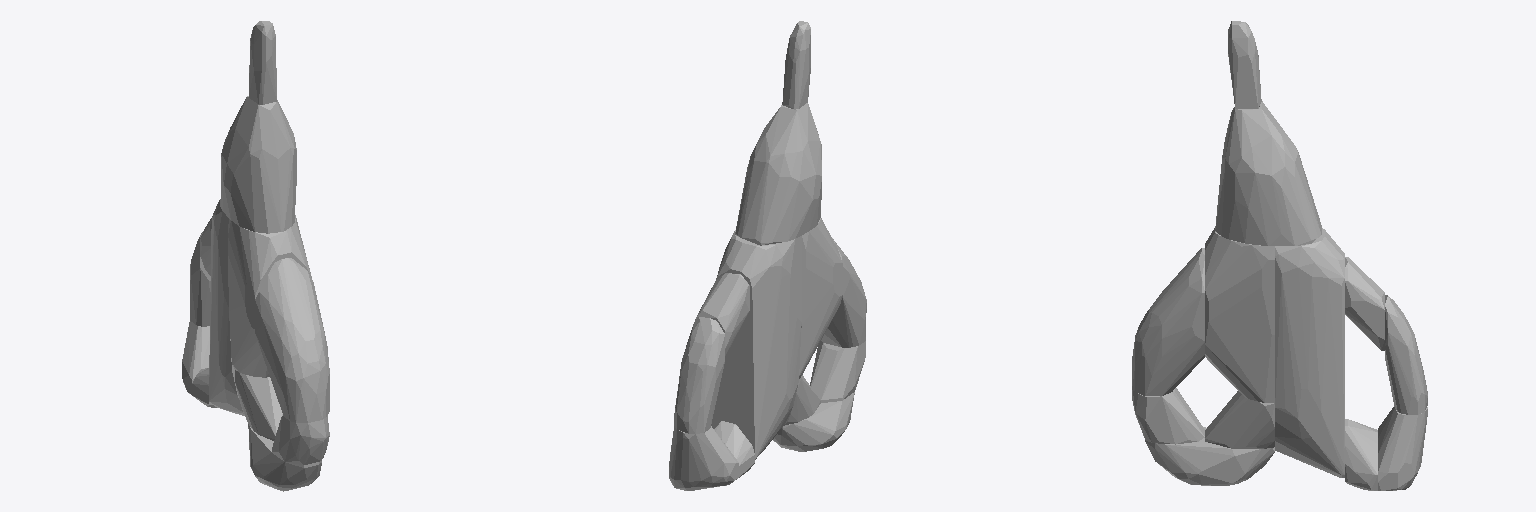
robot.urdf — root:
<robot name="root">
  <link name="link_ycb~037_scissors_convex_piece_0">
    <inertial>
      <origin xyz="0 0 0" rpy="0 0 0"/>
      <mass value="8.70E-03"/>
      <inertia ixx="1.57E-05" ixy="-1.89E-06" ixz="5.38E-07" iyy="2.00E-06" iyz="3.85E-06" izz="1.43E-05"/>
    </inertial>
    <visual>
      <origin xyz="0 0 0" rpy="0 0 0"/>
      <geometry>
        <mesh filename="ycb~037_scissors_convex_piece_0.obj" scale="1.0000E+00 1.0000E+00 1.0000E+00"/>
      </geometry>
      <material name="">
        <color rgba="7.50E-01 7.50E-01 7.50E-01 1"/>
      </material>
    </visual>
    <collision>
      <origin xyz="0 0 0" rpy="0 0 0"/>
      <geometry>
        <mesh filename="ycb~037_scissors_convex_piece_0.obj" scale="1.0000E+00 1.0000E+00 1.0000E+00"/>
      </geometry>
    </collision>
  </link>
  <link name="link_ycb~037_scissors_convex_piece_1">
    <inertial>
      <origin xyz="0 0 0" rpy="0 0 0"/>
      <mass value="6.33E-03"/>
      <inertia ixx="5.79E-06" ixy="-6.74E-07" ixz="-1.56E-07" iyy="6.95E-07" iyz="-1.25E-06" izz="5.40E-06"/>
    </inertial>
    <visual>
      <origin xyz="0 0 0" rpy="0 0 0"/>
      <geometry>
        <mesh filename="ycb~037_scissors_convex_piece_1.obj" scale="1.0000E+00 1.0000E+00 1.0000E+00"/>
      </geometry>
      <material name="">
        <color rgba="7.50E-01 7.50E-01 7.50E-01 1"/>
      </material>
    </visual>
    <collision>
      <origin xyz="0 0 0" rpy="0 0 0"/>
      <geometry>
        <mesh filename="ycb~037_scissors_convex_piece_1.obj" scale="1.0000E+00 1.0000E+00 1.0000E+00"/>
      </geometry>
    </collision>
  </link>
  <joint name="link_ycb~037_scissors_convex_piece_1_joint" type="fixed">
    <origin xyz="0 0 0" rpy="0 0 0"/>
    <parent link="link_ycb~037_scissors_convex_piece_0"/>
    <child link="link_ycb~037_scissors_convex_piece_1"/>
  </joint>
  <link name="link_ycb~037_scissors_convex_piece_2">
    <inertial>
      <origin xyz="0 0 0" rpy="0 0 0"/>
      <mass value="1.23E-02"/>
      <inertia ixx="3.74E-05" ixy="-3.00E-06" ixz="2.97E-06" iyy="1.92E-05" iyz="1.83E-05" izz="1.97E-05"/>
    </inertial>
    <visual>
      <origin xyz="0 0 0" rpy="0 0 0"/>
      <geometry>
        <mesh filename="ycb~037_scissors_convex_piece_2.obj" scale="1.0000E+00 1.0000E+00 1.0000E+00"/>
      </geometry>
      <material name="">
        <color rgba="7.50E-01 7.50E-01 7.50E-01 1"/>
      </material>
    </visual>
    <collision>
      <origin xyz="0 0 0" rpy="0 0 0"/>
      <geometry>
        <mesh filename="ycb~037_scissors_convex_piece_2.obj" scale="1.0000E+00 1.0000E+00 1.0000E+00"/>
      </geometry>
    </collision>
  </link>
  <joint name="link_ycb~037_scissors_convex_piece_2_joint" type="fixed">
    <origin xyz="0 0 0" rpy="0 0 0"/>
    <parent link="link_ycb~037_scissors_convex_piece_1"/>
    <child link="link_ycb~037_scissors_convex_piece_2"/>
  </joint>
  <link name="link_ycb~037_scissors_convex_piece_3">
    <inertial>
      <origin xyz="0 0 0" rpy="0 0 0"/>
      <mass value="6.48E-03"/>
      <inertia ixx="1.65E-05" ixy="-8.69E-07" ixz="1.34E-06" iyy="1.18E-05" iyz="7.52E-06" izz="5.33E-06"/>
    </inertial>
    <visual>
      <origin xyz="0 0 0" rpy="0 0 0"/>
      <geometry>
        <mesh filename="ycb~037_scissors_convex_piece_3.obj" scale="1.0000E+00 1.0000E+00 1.0000E+00"/>
      </geometry>
      <material name="">
        <color rgba="7.50E-01 7.50E-01 7.50E-01 1"/>
      </material>
    </visual>
    <collision>
      <origin xyz="0 0 0" rpy="0 0 0"/>
      <geometry>
        <mesh filename="ycb~037_scissors_convex_piece_3.obj" scale="1.0000E+00 1.0000E+00 1.0000E+00"/>
      </geometry>
    </collision>
  </link>
  <joint name="link_ycb~037_scissors_convex_piece_3_joint" type="fixed">
    <origin xyz="0 0 0" rpy="0 0 0"/>
    <parent link="link_ycb~037_scissors_convex_piece_2"/>
    <child link="link_ycb~037_scissors_convex_piece_3"/>
  </joint>
  <link name="link_ycb~037_scissors_convex_piece_4">
    <inertial>
      <origin xyz="0 0 0" rpy="0 0 0"/>
      <mass value="5.67E-02"/>
      <inertia ixx="1.69E-05" ixy="-7.42E-07" ixz="5.17E-07" iyy="1.37E-05" iyz="2.28E-06" izz="7.29E-06"/>
    </inertial>
    <visual>
      <origin xyz="0 0 0" rpy="0 0 0"/>
      <geometry>
        <mesh filename="ycb~037_scissors_convex_piece_4.obj" scale="1.0000E+00 1.0000E+00 1.0000E+00"/>
      </geometry>
      <material name="">
        <color rgba="7.50E-01 7.50E-01 7.50E-01 1"/>
      </material>
    </visual>
    <collision>
      <origin xyz="0 0 0" rpy="0 0 0"/>
      <geometry>
        <mesh filename="ycb~037_scissors_convex_piece_4.obj" scale="1.0000E+00 1.0000E+00 1.0000E+00"/>
      </geometry>
    </collision>
  </link>
  <joint name="link_ycb~037_scissors_convex_piece_4_joint" type="fixed">
    <origin xyz="0 0 0" rpy="0 0 0"/>
    <parent link="link_ycb~037_scissors_convex_piece_3"/>
    <child link="link_ycb~037_scissors_convex_piece_4"/>
  </joint>
  <link name="link_ycb~037_scissors_convex_piece_5">
    <inertial>
      <origin xyz="0 0 0" rpy="0 0 0"/>
      <mass value="1.01E-02"/>
      <inertia ixx="1.10E-05" ixy="-1.78E-08" ixz="3.93E-08" iyy="1.07E-05" iyz="-1.83E-06" izz="7.02E-07"/>
    </inertial>
    <visual>
      <origin xyz="0 0 0" rpy="0 0 0"/>
      <geometry>
        <mesh filename="ycb~037_scissors_convex_piece_5.obj" scale="1.0000E+00 1.0000E+00 1.0000E+00"/>
      </geometry>
      <material name="">
        <color rgba="7.50E-01 7.50E-01 7.50E-01 1"/>
      </material>
    </visual>
    <collision>
      <origin xyz="0 0 0" rpy="0 0 0"/>
      <geometry>
        <mesh filename="ycb~037_scissors_convex_piece_5.obj" scale="1.0000E+00 1.0000E+00 1.0000E+00"/>
      </geometry>
    </collision>
  </link>
  <joint name="link_ycb~037_scissors_convex_piece_5_joint" type="fixed">
    <origin xyz="0 0 0" rpy="0 0 0"/>
    <parent link="link_ycb~037_scissors_convex_piece_4"/>
    <child link="link_ycb~037_scissors_convex_piece_5"/>
  </joint>
  <link name="link_ycb~037_scissors_convex_piece_6">
    <inertial>
      <origin xyz="0 0 0" rpy="0 0 0"/>
      <mass value="2.69E-02"/>
      <inertia ixx="2.53E-05" ixy="-2.67E-06" ixz="-5.17E-07" iyy="4.31E-06" iyz="-4.59E-06" izz="2.28E-05"/>
    </inertial>
    <visual>
      <origin xyz="0 0 0" rpy="0 0 0"/>
      <geometry>
        <mesh filename="ycb~037_scissors_convex_piece_6.obj" scale="1.0000E+00 1.0000E+00 1.0000E+00"/>
      </geometry>
      <material name="">
        <color rgba="7.50E-01 7.50E-01 7.50E-01 1"/>
      </material>
    </visual>
    <collision>
      <origin xyz="0 0 0" rpy="0 0 0"/>
      <geometry>
        <mesh filename="ycb~037_scissors_convex_piece_6.obj" scale="1.0000E+00 1.0000E+00 1.0000E+00"/>
      </geometry>
    </collision>
  </link>
  <joint name="link_ycb~037_scissors_convex_piece_6_joint" type="fixed">
    <origin xyz="0 0 0" rpy="0 0 0"/>
    <parent link="link_ycb~037_scissors_convex_piece_5"/>
    <child link="link_ycb~037_scissors_convex_piece_6"/>
  </joint>
  <link name="link_ycb~037_scissors_convex_piece_7">
    <inertial>
      <origin xyz="0 0 0" rpy="0 0 0"/>
      <mass value="8.41E-03"/>
      <inertia ixx="1.73E-05" ixy="-1.05E-06" ixz="-1.06E-06" iyy="9.12E-06" iyz="-8.42E-06" izz="8.68E-06"/>
    </inertial>
    <visual>
      <origin xyz="0 0 0" rpy="0 0 0"/>
      <geometry>
        <mesh filename="ycb~037_scissors_convex_piece_7.obj" scale="1.0000E+00 1.0000E+00 1.0000E+00"/>
      </geometry>
      <material name="">
        <color rgba="7.50E-01 7.50E-01 7.50E-01 1"/>
      </material>
    </visual>
    <collision>
      <origin xyz="0 0 0" rpy="0 0 0"/>
      <geometry>
        <mesh filename="ycb~037_scissors_convex_piece_7.obj" scale="1.0000E+00 1.0000E+00 1.0000E+00"/>
      </geometry>
    </collision>
  </link>
  <joint name="link_ycb~037_scissors_convex_piece_7_joint" type="fixed">
    <origin xyz="0 0 0" rpy="0 0 0"/>
    <parent link="link_ycb~037_scissors_convex_piece_6"/>
    <child link="link_ycb~037_scissors_convex_piece_7"/>
  </joint>
  <link name="link_ycb~037_scissors_convex_piece_8">
    <inertial>
      <origin xyz="0 0 0" rpy="0 0 0"/>
      <mass value="8.14E-02"/>
      <inertia ixx="5.13E-05" ixy="-2.11E-06" ixz="1.89E-06" iyy="4.00E-05" iyz="8.34E-06" izz="1.72E-05"/>
    </inertial>
    <visual>
      <origin xyz="0 0 0" rpy="0 0 0"/>
      <geometry>
        <mesh filename="ycb~037_scissors_convex_piece_8.obj" scale="1.0000E+00 1.0000E+00 1.0000E+00"/>
      </geometry>
      <material name="">
        <color rgba="7.50E-01 7.50E-01 7.50E-01 1"/>
      </material>
    </visual>
    <collision>
      <origin xyz="0 0 0" rpy="0 0 0"/>
      <geometry>
        <mesh filename="ycb~037_scissors_convex_piece_8.obj" scale="1.0000E+00 1.0000E+00 1.0000E+00"/>
      </geometry>
    </collision>
  </link>
  <joint name="link_ycb~037_scissors_convex_piece_8_joint" type="fixed">
    <origin xyz="0 0 0" rpy="0 0 0"/>
    <parent link="link_ycb~037_scissors_convex_piece_7"/>
    <child link="link_ycb~037_scissors_convex_piece_8"/>
  </joint>
  <link name="link_ycb~037_scissors_convex_piece_9">
    <inertial>
      <origin xyz="0 0 0" rpy="0 0 0"/>
      <mass value="1.70E-02"/>
      <inertia ixx="4.21E-05" ixy="-7.59E-07" ixz="-1.60E-06" iyy="3.60E-05" iyz="-1.36E-05" izz="6.87E-06"/>
    </inertial>
    <visual>
      <origin xyz="0 0 0" rpy="0 0 0"/>
      <geometry>
        <mesh filename="ycb~037_scissors_convex_piece_9.obj" scale="1.0000E+00 1.0000E+00 1.0000E+00"/>
      </geometry>
      <material name="">
        <color rgba="7.50E-01 7.50E-01 7.50E-01 1"/>
      </material>
    </visual>
    <collision>
      <origin xyz="0 0 0" rpy="0 0 0"/>
      <geometry>
        <mesh filename="ycb~037_scissors_convex_piece_9.obj" scale="1.0000E+00 1.0000E+00 1.0000E+00"/>
      </geometry>
    </collision>
  </link>
  <joint name="link_ycb~037_scissors_convex_piece_9_joint" type="fixed">
    <origin xyz="0 0 0" rpy="0 0 0"/>
    <parent link="link_ycb~037_scissors_convex_piece_8"/>
    <child link="link_ycb~037_scissors_convex_piece_9"/>
  </joint>
  <link name="link_ycb~037_scissors_convex_piece_10">
    <inertial>
      <origin xyz="0 0 0" rpy="0 0 0"/>
      <mass value="3.38E-03"/>
      <inertia ixx="2.29E-05" ixy="-8.61E-08" ixz="9.70E-07" iyy="2.28E-05" iyz="2.03E-06" izz="2.49E-07"/>
    </inertial>
    <visual>
      <origin xyz="0 0 0" rpy="0 0 0"/>
      <geometry>
        <mesh filename="ycb~037_scissors_convex_piece_10.obj" scale="1.0000E+00 1.0000E+00 1.0000E+00"/>
      </geometry>
      <material name="">
        <color rgba="7.50E-01 7.50E-01 7.50E-01 1"/>
      </material>
    </visual>
    <collision>
      <origin xyz="0 0 0" rpy="0 0 0"/>
      <geometry>
        <mesh filename="ycb~037_scissors_convex_piece_10.obj" scale="1.0000E+00 1.0000E+00 1.0000E+00"/>
      </geometry>
    </collision>
  </link>
  <joint name="link_ycb~037_scissors_convex_piece_10_joint" type="fixed">
    <origin xyz="0 0 0" rpy="0 0 0"/>
    <parent link="link_ycb~037_scissors_convex_piece_9"/>
    <child link="link_ycb~037_scissors_convex_piece_10"/>
  </joint>
  <link name="link_ycb~037_scissors_convex_piece_11">
    <inertial>
      <origin xyz="0 0 0" rpy="0 0 0"/>
      <mass value="4.32E-02"/>
      <inertia ixx="9.23E-05" ixy="-2.67E-07" ixz="3.01E-06" iyy="9.14E-05" iyz="3.57E-06" izz="3.40E-06"/>
    </inertial>
    <visual>
      <origin xyz="0 0 0" rpy="0 0 0"/>
      <geometry>
        <mesh filename="ycb~037_scissors_convex_piece_11.obj" scale="1.0000E+00 1.0000E+00 1.0000E+00"/>
      </geometry>
      <material name="">
        <color rgba="7.50E-01 7.50E-01 7.50E-01 1"/>
      </material>
    </visual>
    <collision>
      <origin xyz="0 0 0" rpy="0 0 0"/>
      <geometry>
        <mesh filename="ycb~037_scissors_convex_piece_11.obj" scale="1.0000E+00 1.0000E+00 1.0000E+00"/>
      </geometry>
    </collision>
  </link>
  <joint name="link_ycb~037_scissors_convex_piece_11_joint" type="fixed">
    <origin xyz="0 0 0" rpy="0 0 0"/>
    <parent link="link_ycb~037_scissors_convex_piece_10"/>
    <child link="link_ycb~037_scissors_convex_piece_11"/>
  </joint>
</robot>

--- What the picture shows (computed from the rendered views, not written in the file) ---
The picture shows the robot from 3 angles, left to right: view 1: azimuth 30°, elevation 25°; view 2: azimuth 150°, elevation 25°; view 3: azimuth 270°, elevation 25°; orthographic projection.
Model root with 12 links and 11 joints (11 fixed), rooted at link_ycb~037_scissors_convex_piece_0, posed all joints at 0.
Links seen in each view (by area): view 1: link_ycb~037_scissors_convex_piece_6, link_ycb~037_scissors_convex_piece_11, link_ycb~037_scissors_convex_piece_4, link_ycb~037_scissors_convex_piece_8, link_ycb~037_scissors_convex_piece_9, link_ycb~037_scissors_convex_piece_7, link_ycb~037_scissors_convex_piece_5, link_ycb~037_scissors_convex_piece_10, link_ycb~037_scissors_convex_piece_0, link_ycb~037_scissors_convex_piece_2; view 2: link_ycb~037_scissors_convex_piece_8, link_ycb~037_scissors_convex_piece_11, link_ycb~037_scissors_convex_piece_0, link_ycb~037_scissors_convex_piece_4, link_ycb~037_scissors_convex_piece_2, link_ycb~037_scissors_convex_piece_7, link_ycb~037_scissors_convex_piece_9, link_ycb~037_scissors_convex_piece_6, link_ycb~037_scissors_convex_piece_1, link_ycb~037_scissors_convex_piece_10, link_ycb~037_scissors_convex_piece_3, link_ycb~037_scissors_convex_piece_5; view 3: link_ycb~037_scissors_convex_piece_8, link_ycb~037_scissors_convex_piece_11, link_ycb~037_scissors_convex_piece_4, link_ycb~037_scissors_convex_piece_6, link_ycb~037_scissors_convex_piece_9, link_ycb~037_scissors_convex_piece_0, link_ycb~037_scissors_convex_piece_2, link_ycb~037_scissors_convex_piece_5, link_ycb~037_scissors_convex_piece_7, link_ycb~037_scissors_convex_piece_1, link_ycb~037_scissors_convex_piece_10, link_ycb~037_scissors_convex_piece_3.
Boxes of the visible links, left/top/right/bottom form: link_ycb~037_scissors_convex_piece_6: left=255, top=258, right=329, bottom=422; link_ycb~037_scissors_convex_piece_11: left=220, top=96, right=296, bottom=233; link_ycb~037_scissors_convex_piece_4: left=228, top=215, right=311, bottom=377; link_ycb~037_scissors_convex_piece_8: left=209, top=200, right=244, bottom=415; link_ycb~037_scissors_convex_piece_9: left=248, top=424, right=321, bottom=491; link_ycb~037_scissors_convex_piece_7: left=272, top=414, right=329, bottom=464; link_ycb~037_scissors_convex_piece_5: left=235, top=370, right=282, bottom=440; link_ycb~037_scissors_convex_piece_10: left=249, top=21, right=276, bottom=104; link_ycb~037_scissors_convex_piece_0: left=190, top=231, right=210, bottom=326; link_ycb~037_scissors_convex_piece_2: left=182, top=321, right=209, bottom=396; link_ycb~037_scissors_convex_piece_8: left=711, top=230, right=801, bottom=459; link_ycb~037_scissors_convex_piece_11: left=735, top=103, right=821, bottom=245; link_ycb~037_scissors_convex_piece_0: left=674, top=317, right=724, bottom=433; link_ycb~037_scissors_convex_piece_4: left=799, top=218, right=842, bottom=378; link_ycb~037_scissors_convex_piece_2: left=669, top=426, right=738, bottom=490; link_ycb~037_scissors_convex_piece_7: left=810, top=341, right=865, bottom=402; link_ycb~037_scissors_convex_piece_9: left=773, top=392, right=854, bottom=451; link_ycb~037_scissors_convex_piece_6: left=821, top=238, right=866, bottom=347; link_ycb~037_scissors_convex_piece_1: left=695, top=273, right=749, bottom=355; link_ycb~037_scissors_convex_piece_10: left=782, top=21, right=810, bottom=109; link_ycb~037_scissors_convex_piece_3: left=714, top=421, right=754, bottom=477; link_ycb~037_scissors_convex_piece_5: left=784, top=375, right=820, bottom=425; link_ycb~037_scissors_convex_piece_8: left=1275, top=228, right=1344, bottom=477; link_ycb~037_scissors_convex_piece_11: left=1215, top=101, right=1321, bottom=245; link_ycb~037_scissors_convex_piece_4: left=1205, top=228, right=1274, bottom=402; link_ycb~037_scissors_convex_piece_6: left=1132, top=248, right=1204, bottom=395; link_ycb~037_scissors_convex_piece_9: left=1145, top=427, right=1274, bottom=485; link_ycb~037_scissors_convex_piece_0: left=1385, top=295, right=1427, bottom=414; link_ycb~037_scissors_convex_piece_2: left=1378, top=407, right=1427, bottom=490; link_ycb~037_scissors_convex_piece_5: left=1205, top=391, right=1274, bottom=448; link_ycb~037_scissors_convex_piece_7: left=1132, top=388, right=1204, bottom=444; link_ycb~037_scissors_convex_piece_1: left=1345, top=257, right=1384, bottom=350; link_ycb~037_scissors_convex_piece_10: left=1228, top=21, right=1261, bottom=108; link_ycb~037_scissors_convex_piece_3: left=1345, top=419, right=1377, bottom=490.
Bounding box of the posed robot: 0.0298 × 0.0883 × 0.1498 m (x, y, z).
Meshes: 12 distinct files referenced, 12 mesh visuals loaded (12 OBJ).